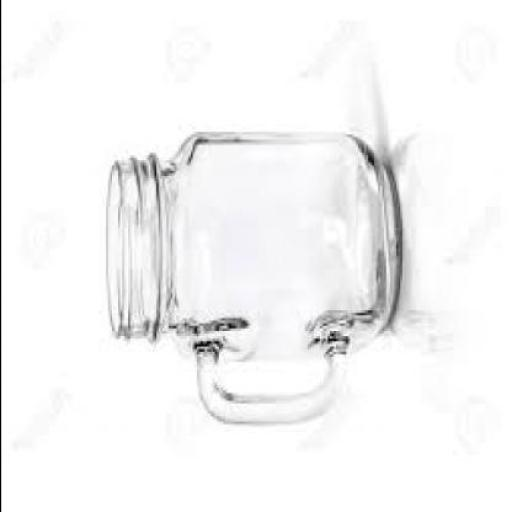glass: (104, 129, 398, 422)
